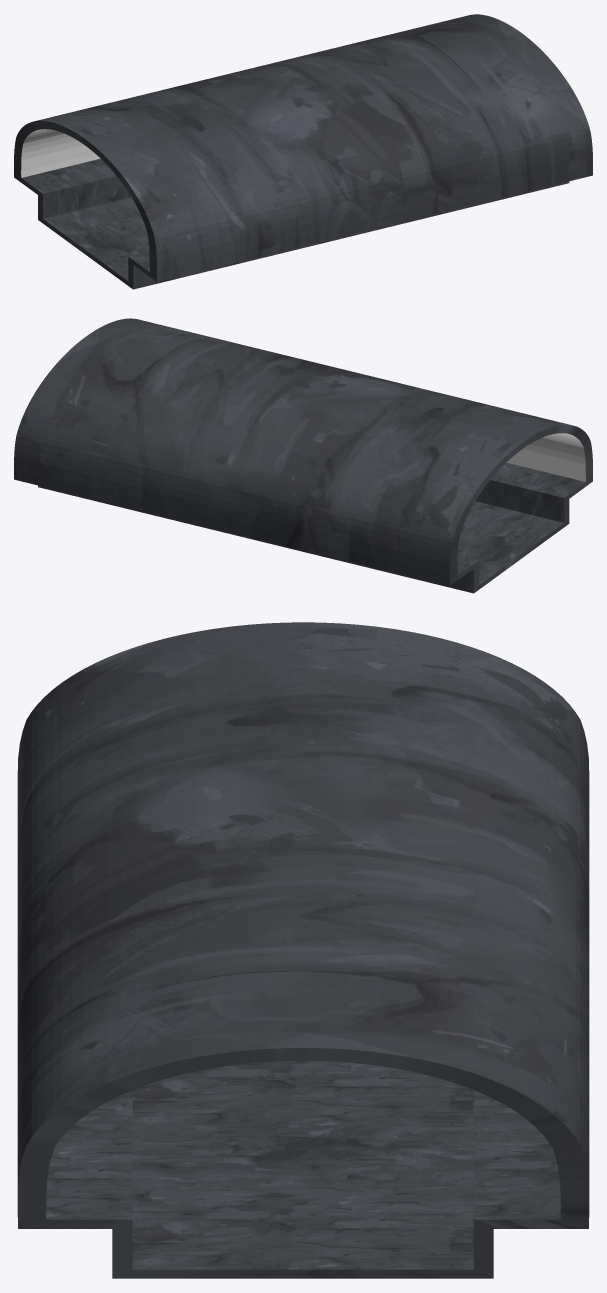
The model's file is straight.fbx.
3 renders of one model, top to bottom at view 1: azimuth 30°, elevation 25°; view 2: azimuth 150°, elevation 25°; view 3: azimuth 270°, elevation 25°, orthographic. The views are drawn at different scales.
Visible parts, largest first — view 1: Cylinder; view 2: Cylinder; view 3: Cylinder.
Boxes of the visible parts, left/top/right/bottom form: Cylinder: left=14, top=14, right=592, bottom=289; Cylinder: left=14, top=318, right=592, bottom=593; Cylinder: left=17, top=622, right=589, bottom=1278.
Size of the model in its own units: 2113 by 534 by 1200.
Materials: 2 (1 with a texture image).
